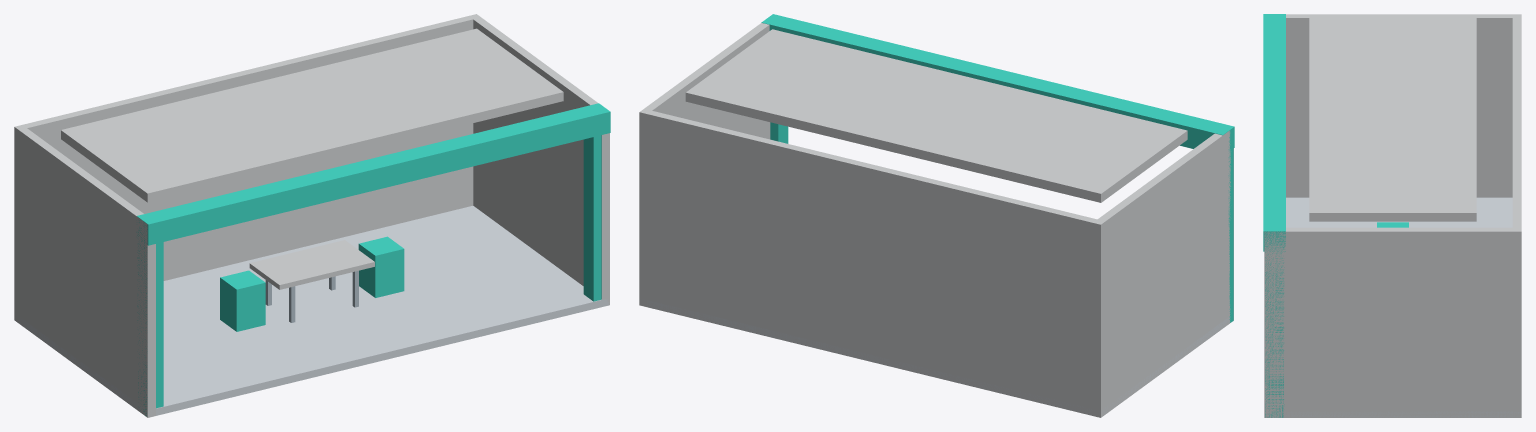
The picture shows the model from 3 angles, left to right: view 1: azimuth 30°, elevation 25°; view 2: azimuth 150°, elevation 25°; view 3: azimuth 270°, elevation 25°; orthographic projection. The views are drawn at different scales.
Visible parts, largest first — view 1: Exhibition Booth Concept; view 2: Exhibition Booth Concept; view 3: Exhibition Booth Concept.
Boxes of the visible parts, left/top/right/bottom form: Exhibition Booth Concept: left=14, top=14, right=610, bottom=417; Exhibition Booth Concept: left=639, top=14, right=1234, bottom=417; Exhibition Booth Concept: left=1263, top=14, right=1521, bottom=417.
Size of the model in its own units: 8 by 3.34 by 4.02.
